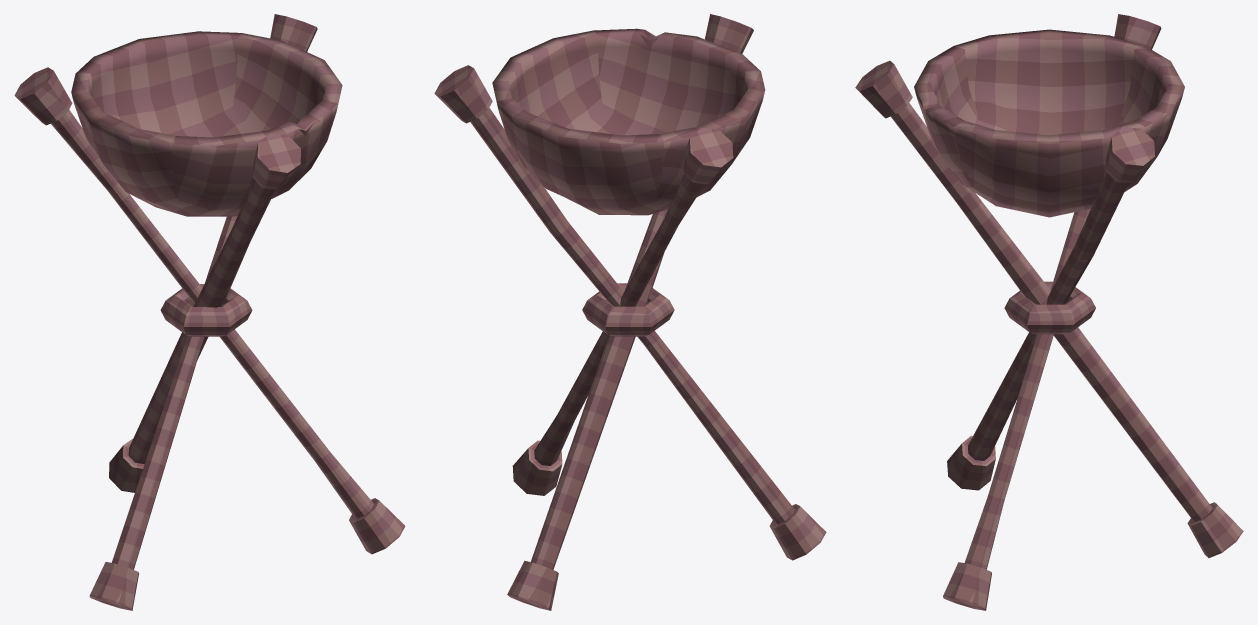
The model's file is 310_Stove_MD.fbx.
The picture shows the model from 3 angles, left to right: view 1: azimuth 30°, elevation 25°; view 2: azimuth 150°, elevation 25°; view 3: azimuth 270°, elevation 25°; orthographic projection.
Visible parts, largest first — view 1: Box002; view 2: Box002; view 3: Box002.
Part boxes in pixels (x1,y1,x2,y2): Box002: (14, 14, 405, 610); Box002: (434, 14, 826, 610); Box002: (855, 14, 1243, 610).
Size of the model in its own units: 36.48 by 54.41 by 39.94.
Materials: 1 (1 with a texture image).
